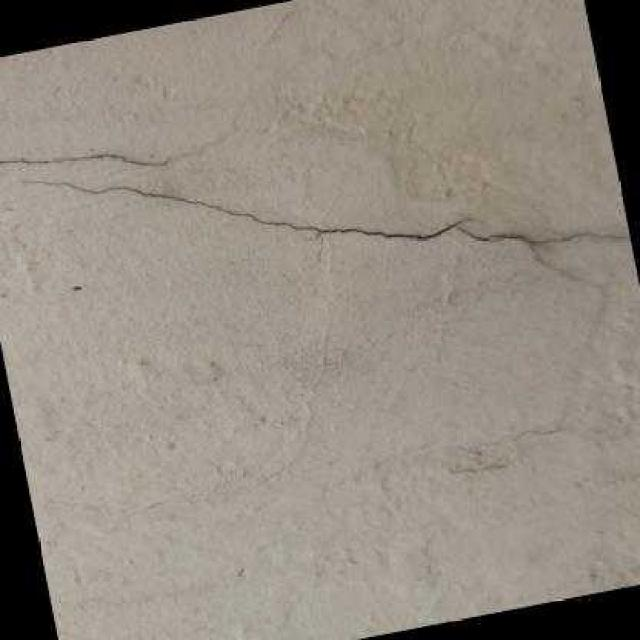D00: (19, 179, 486, 242), (455, 226, 630, 246), (0, 153, 169, 168)
